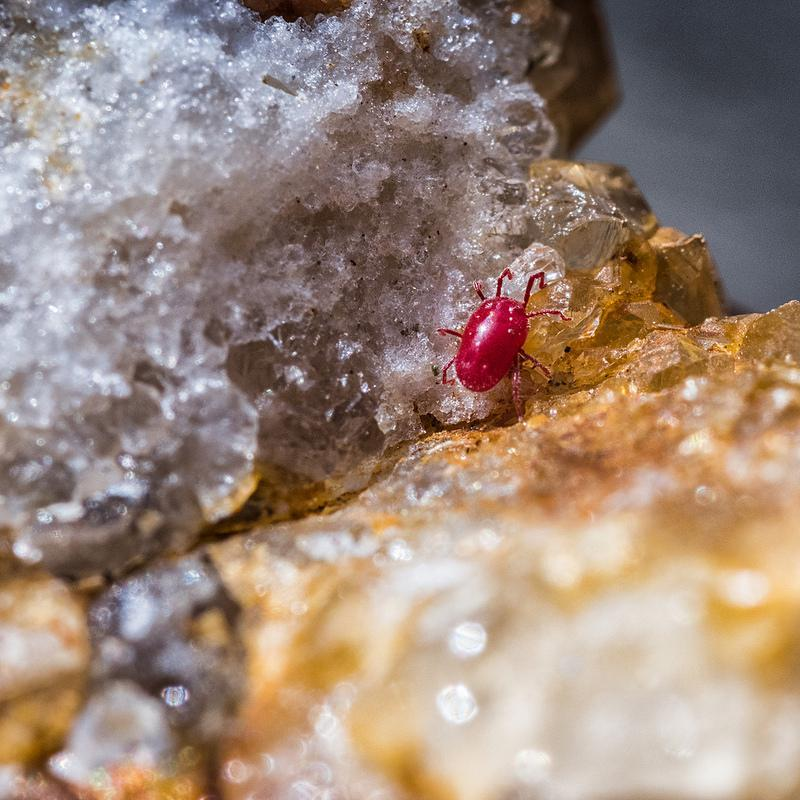tiny_pests: (384, 214, 606, 436)
